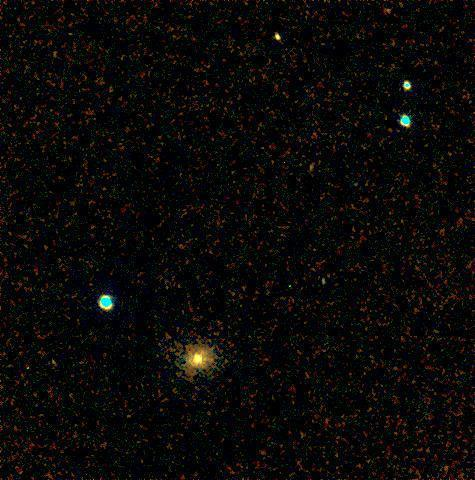star: (296, 149, 326, 179)
